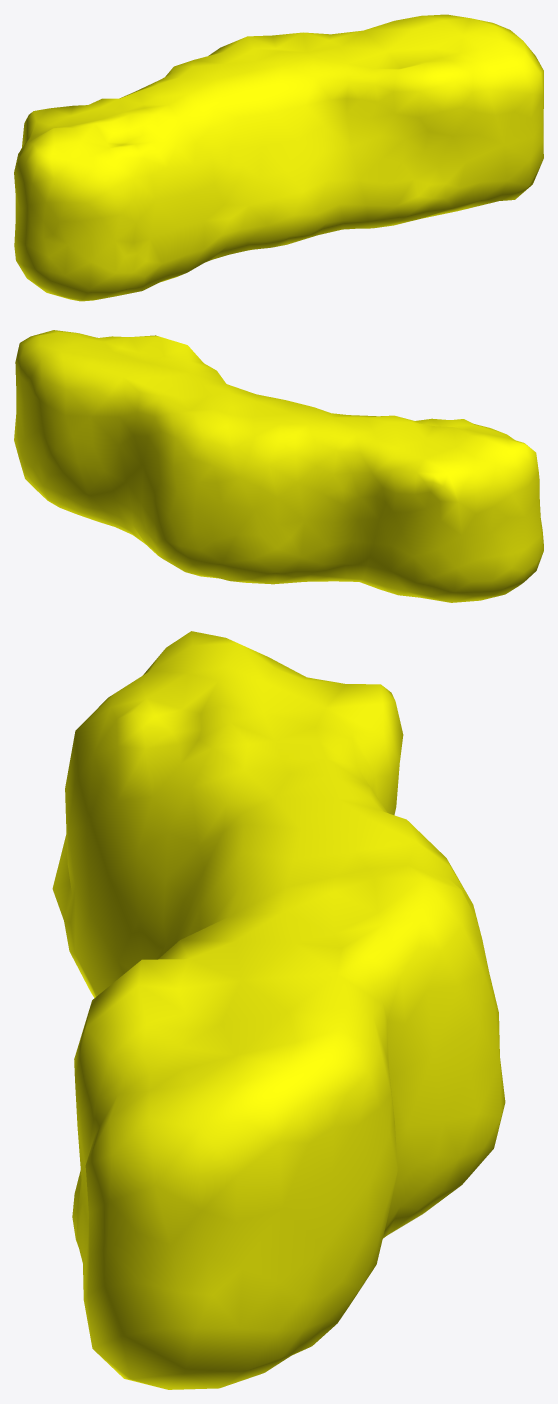
The model's file is CaveB.glb.
3 views of the same model, one above another, from view 1: azimuth 30°, elevation 25°; view 2: azimuth 150°, elevation 25°; view 3: azimuth 270°, elevation 25° (orthographic). The views are drawn at different scales.
Parts seen in each view (by area): view 1: CaveWalls4B; view 2: CaveWalls4B; view 3: CaveWalls4B.
Boxes of the visible parts, x1,y1,x2,y2 form: CaveWalls4B: (14,14,543,301); CaveWalls4B: (14,330,543,602); CaveWalls4B: (52,631,505,1389).
Size of the model in its own units: 42.71 by 12.76 by 16.33.
1 material, 1 textured.
